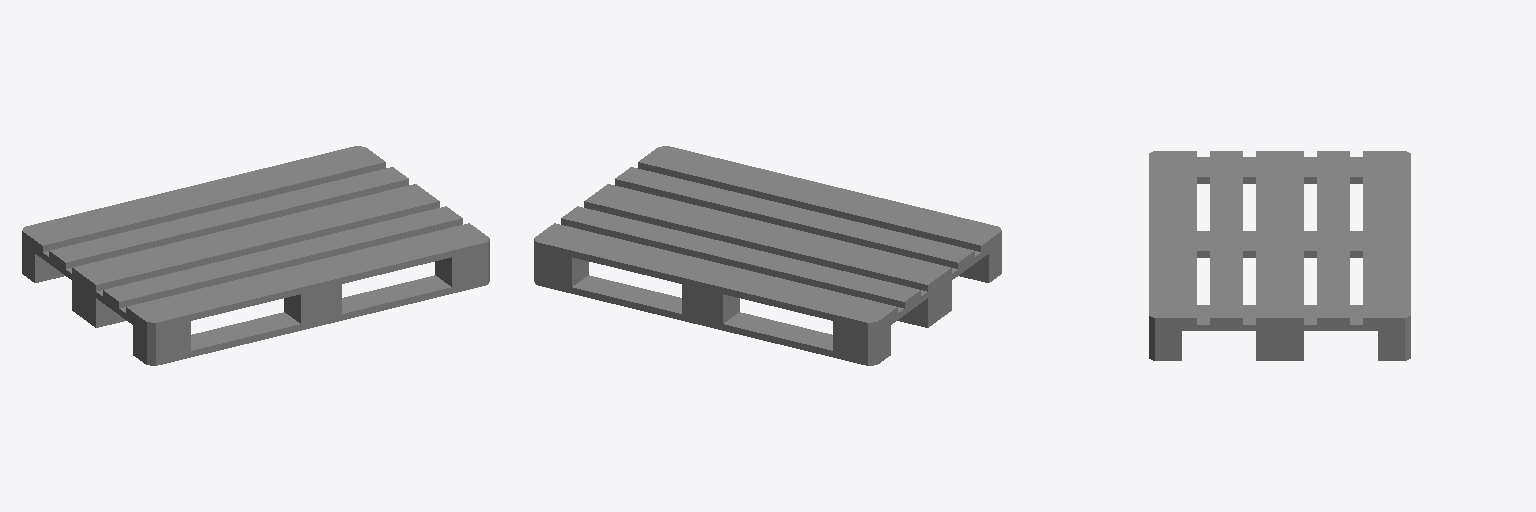
File: Europalette.obj
The picture shows the model from 3 angles: view 1: azimuth 30°, elevation 25°; view 2: azimuth 150°, elevation 25°; view 3: azimuth 270°, elevation 25°; orthographic projection.
Visible parts, largest first — view 1: Object001; view 2: Object001; view 3: Object001.
Part boxes in pixels (x1,y1,x2,y2): Object001: (22,146,489,365); Object001: (534,146,1001,365); Object001: (1149,151,1410,360).
Bounding box in the file's own units: 47.24 × 5.67 × 31.3.